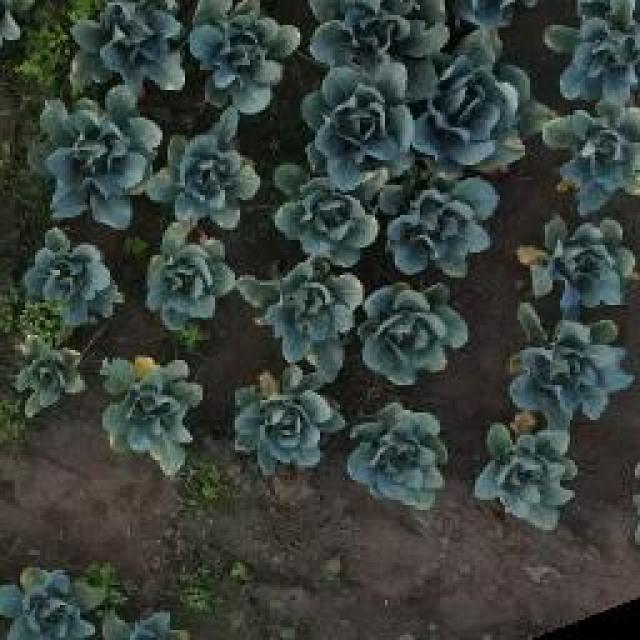cabbage: (32, 100, 158, 229), (420, 36, 531, 158), (150, 112, 260, 230), (512, 312, 634, 418), (376, 168, 498, 272), (297, 55, 405, 171), (236, 260, 352, 366), (270, 151, 386, 257), (188, 3, 292, 112), (108, 354, 204, 472), (344, 397, 447, 506), (68, 0, 186, 95), (522, 206, 637, 302), (357, 283, 474, 376), (235, 371, 338, 473), (21, 227, 122, 328), (484, 421, 575, 532), (541, 99, 640, 191), (317, 0, 446, 70), (140, 234, 234, 328), (554, 0, 640, 95), (0, 566, 98, 640), (13, 335, 90, 423)
